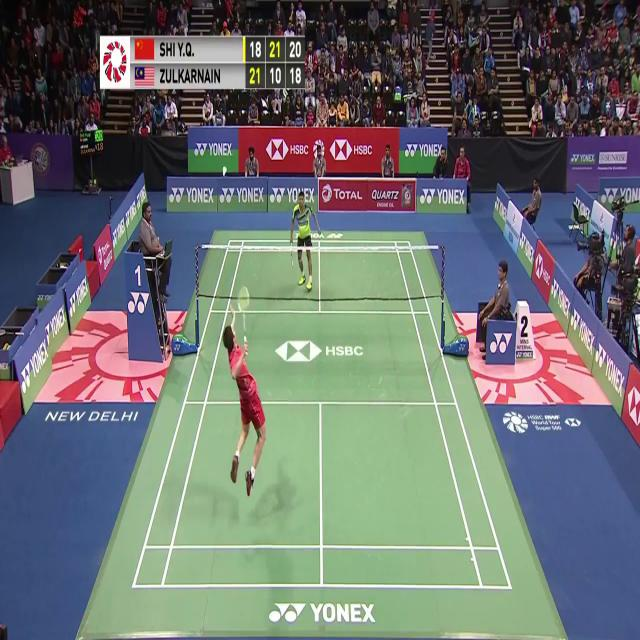Shuttlecock: (221, 168, 227, 179)
